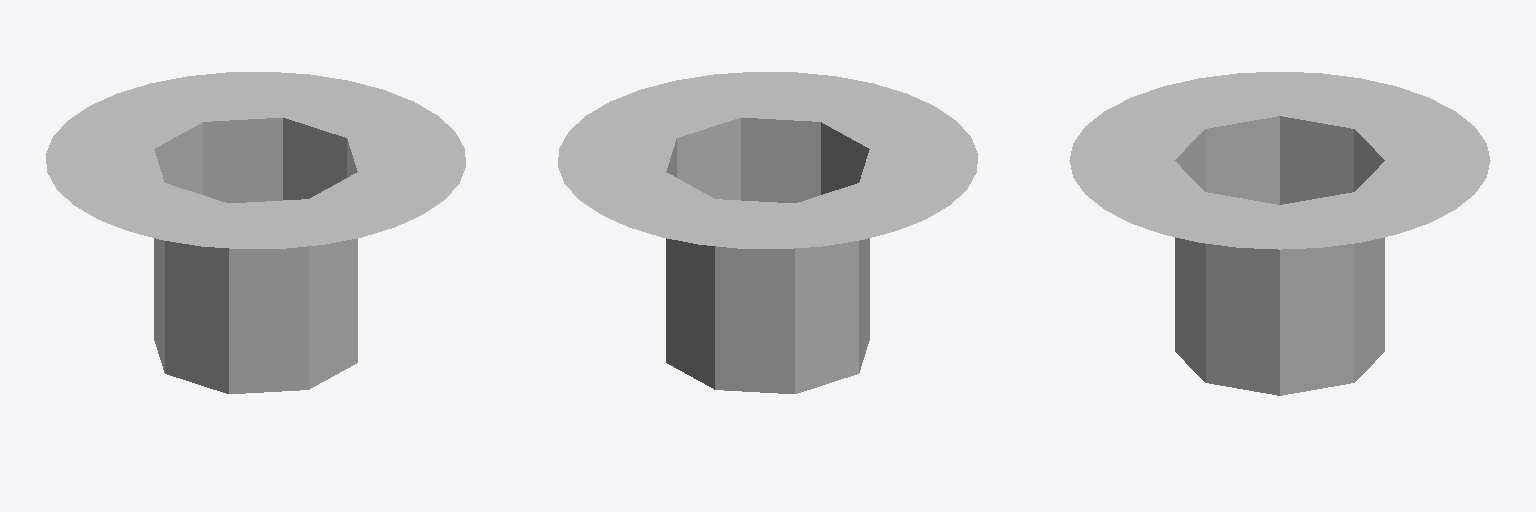
File: hole.obj
3 views of the same model, side by side, from view 1: azimuth 30°, elevation 25°; view 2: azimuth 150°, elevation 25°; view 3: azimuth 270°, elevation 25° (orthographic).
Parts seen in each view (by area): view 1: Circle; view 2: Circle; view 3: Circle.
Boxes of the visible parts, box(x1,y1,x2,y2) form: Circle: box(46, 72, 465, 393); Circle: box(558, 72, 977, 393); Circle: box(1069, 72, 1490, 395).
Size of the model in its own units: 2 by 1 by 2.